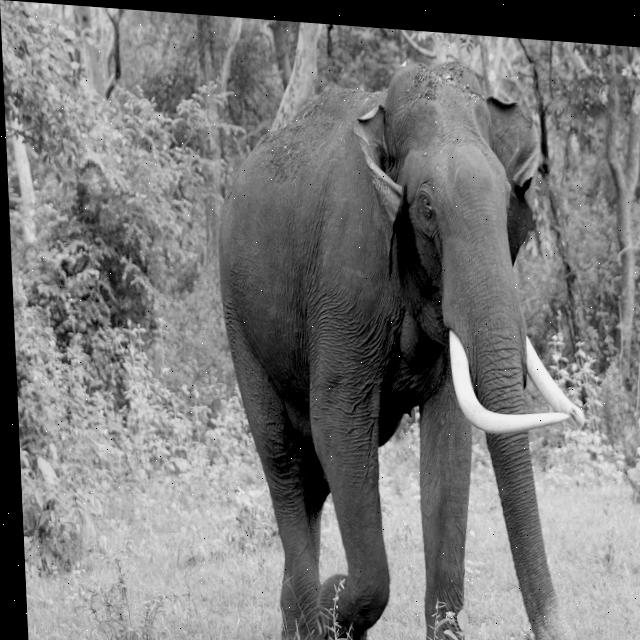Elephant: (208, 41, 596, 640)
